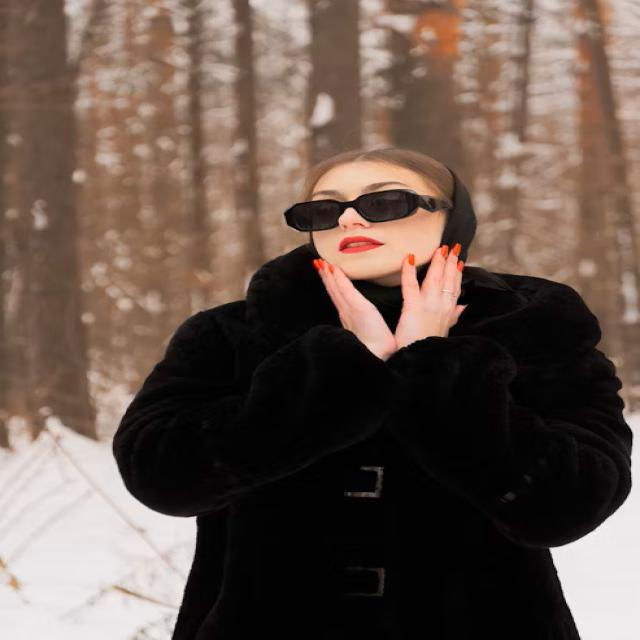Edited images: (91, 138, 640, 639)
